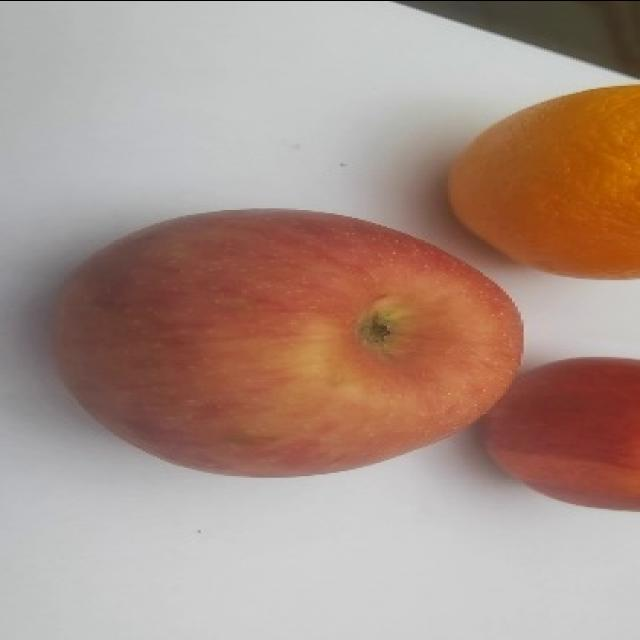Apple: (50, 206, 524, 478)
Orange: (446, 82, 639, 280)
